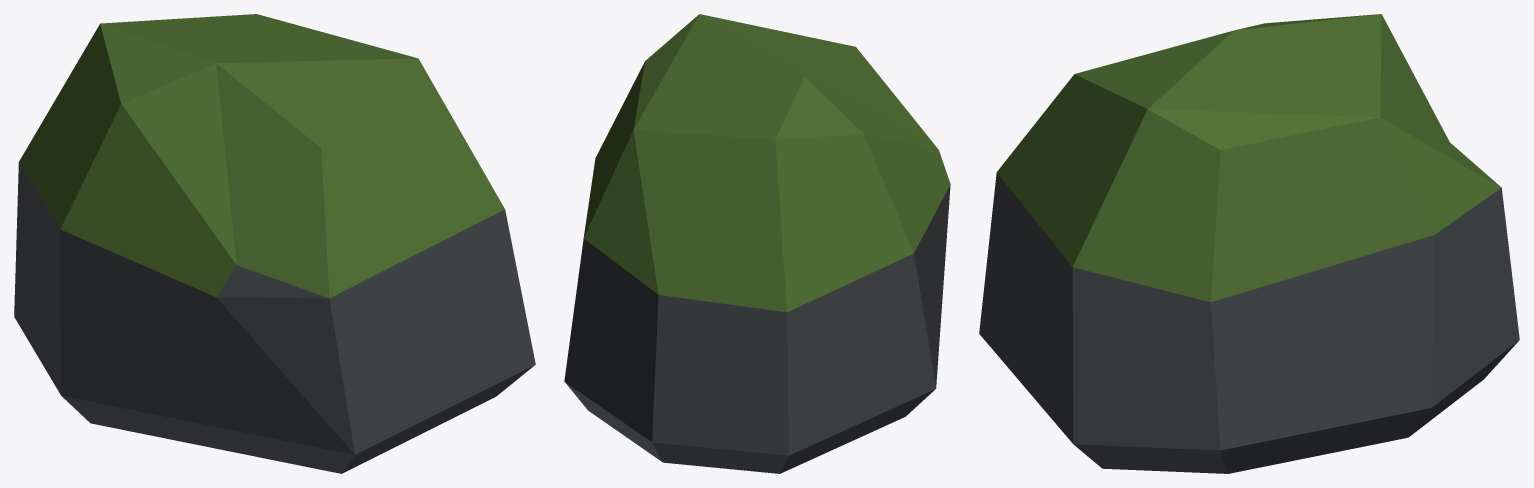
File: Moss Rock_2.fbx
3 views of the same model, side by side, from view 1: azimuth 30°, elevation 25°; view 2: azimuth 150°, elevation 25°; view 3: azimuth 270°, elevation 25° (orthographic). The views are drawn at different scales.
Visible parts, largest first — view 1: Moss Rock 2; view 2: Moss Rock 2; view 3: Moss Rock 2.
Part boxes in pixels (x1,y1,x2,y2): Moss Rock 2: (14,14,535,473); Moss Rock 2: (564,14,950,473); Moss Rock 2: (979,14,1519,473).
Bounding box in the file's own units: 2.09 × 1.72 × 2.45.
